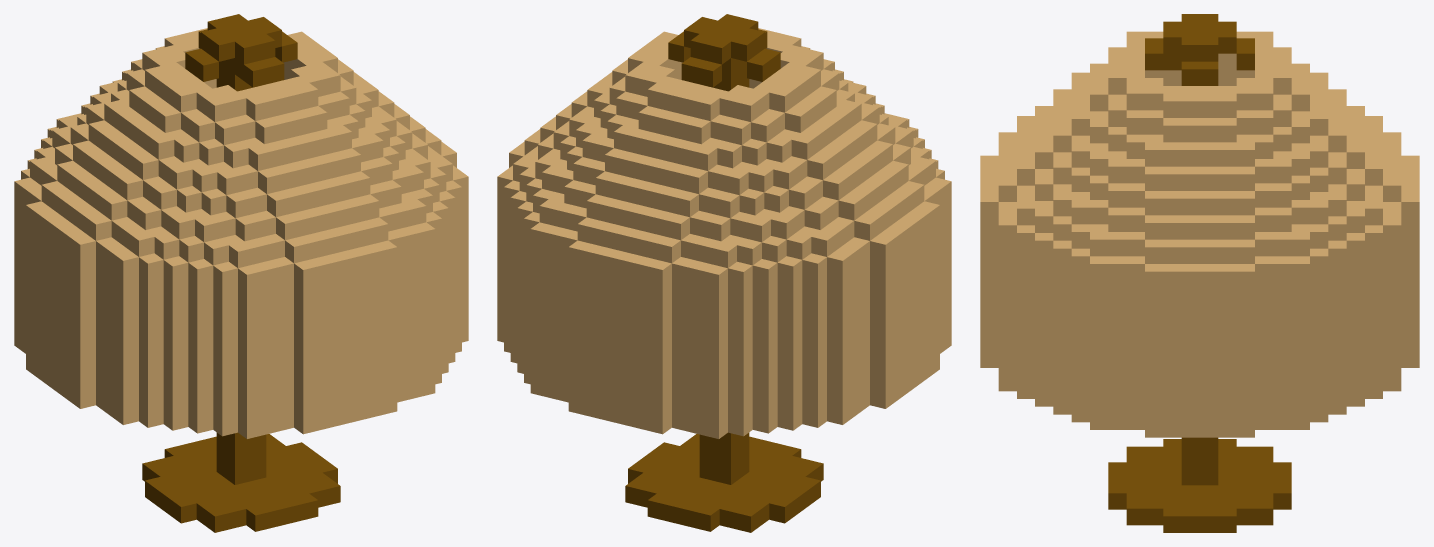
The model's file is lamp_0.obj.
The picture shows the model from 3 angles, left to right: view 1: azimuth 30°, elevation 25°; view 2: azimuth 150°, elevation 25°; view 3: azimuth 270°, elevation 25°; orthographic projection.
Bounding box in the file's own units: 2.4 × 2.8 × 2.4.
1 material, 1 textured.
